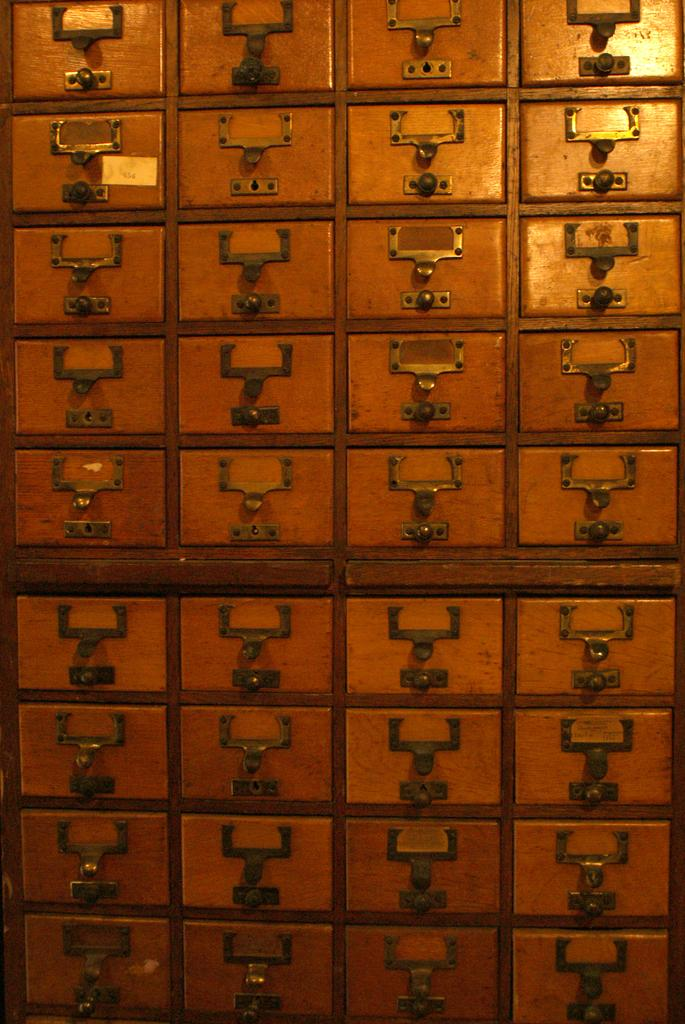cabinet_door: (515, 593, 676, 704), (520, 442, 676, 556), (515, 98, 679, 204), (352, 219, 504, 329), (344, 704, 500, 811), (516, 820, 672, 924), (20, 800, 170, 908), (23, 909, 170, 1017), (350, 328, 505, 430), (520, 330, 676, 430), (511, 710, 672, 806), (347, 820, 500, 918), (524, 222, 680, 317), (16, 116, 164, 216), (16, 594, 166, 692), (182, 820, 332, 918), (350, 599, 500, 697), (184, 596, 328, 698), (20, 700, 169, 798), (510, 934, 672, 1024), (179, 337, 329, 434), (185, 706, 330, 806), (343, 930, 497, 1024), (179, 106, 333, 198), (185, 922, 330, 1018), (348, 110, 502, 200), (348, 458, 505, 546), (16, 234, 164, 326), (186, 452, 327, 548), (10, 456, 167, 542), (180, 230, 333, 318), (12, 344, 163, 431), (182, 8, 330, 92), (16, 17, 162, 101), (524, 4, 676, 77), (352, 3, 504, 74)
handle: (593, 278, 615, 318), (240, 290, 264, 326), (594, 160, 615, 200), (416, 782, 437, 820), (414, 280, 434, 314), (416, 515, 434, 552), (417, 172, 436, 205), (74, 178, 92, 212), (76, 67, 96, 97), (240, 886, 262, 913), (245, 64, 261, 100), (79, 998, 101, 1024), (591, 400, 611, 428), (416, 404, 433, 434), (411, 892, 432, 916), (594, 50, 614, 74), (77, 670, 100, 690), (412, 670, 431, 694), (594, 524, 610, 552), (245, 400, 261, 428), (245, 668, 261, 696), (586, 896, 601, 923), (74, 296, 92, 318), (591, 668, 605, 696), (588, 780, 600, 802)
